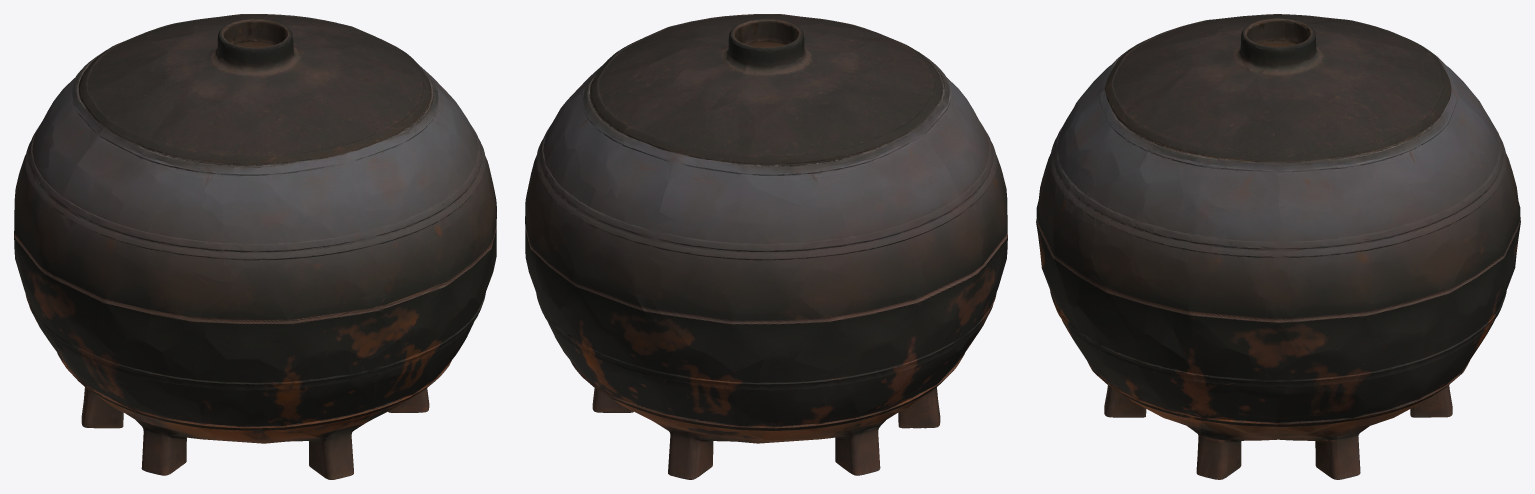
File: bomb.glb
The picture shows the model from 3 angles, left to right: view 1: azimuth 30°, elevation 25°; view 2: azimuth 150°, elevation 25°; view 3: azimuth 270°, elevation 25°; orthographic projection.
Size of the model in its own units: 1.9 by 1.63 by 1.9.
1 material, 1 textured.
